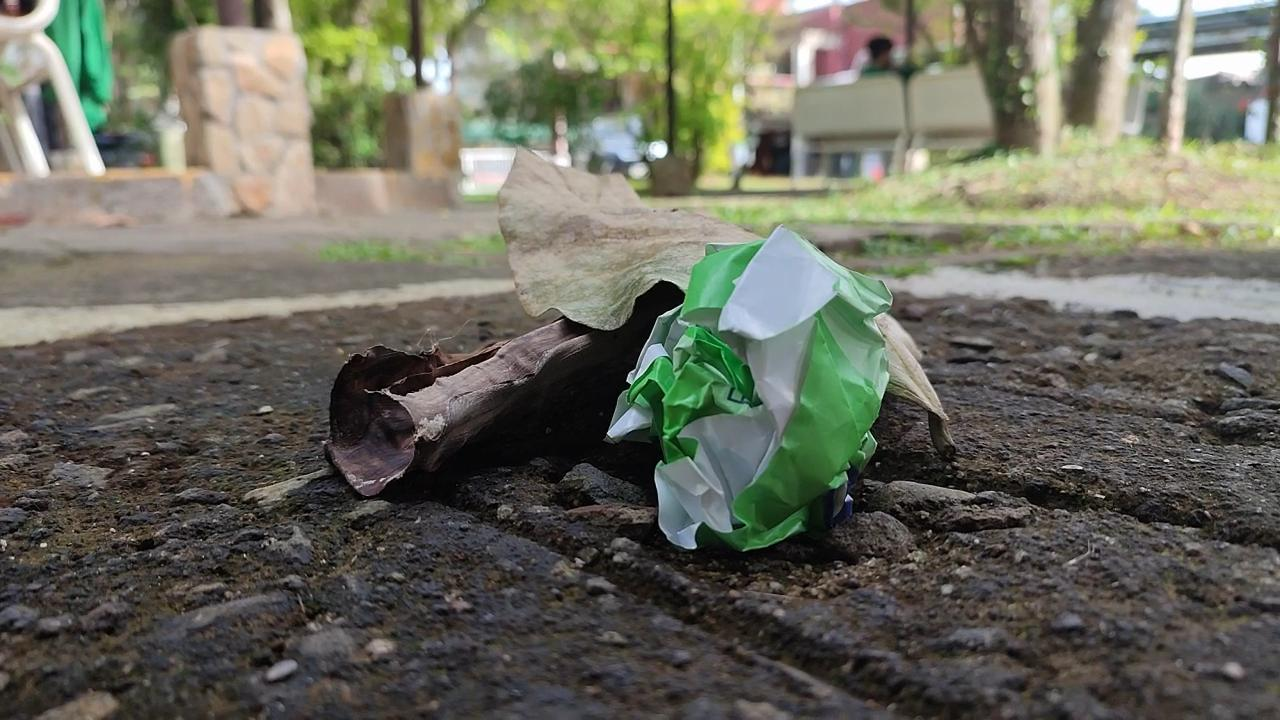Paper: (599, 201, 901, 561)
